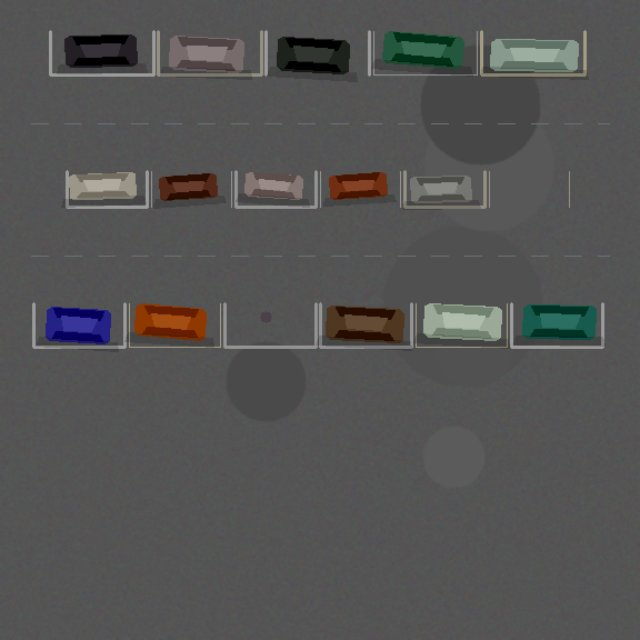space-empty: (224, 303, 316, 347), (489, 171, 569, 207)
space-occupied: (373, 31, 477, 74), (50, 31, 153, 74), (158, 31, 261, 74), (266, 31, 369, 74), (481, 31, 584, 74), (33, 303, 124, 347), (129, 303, 220, 347), (320, 303, 411, 347), (416, 303, 507, 347), (511, 303, 602, 347), (67, 171, 147, 207), (151, 171, 231, 207), (236, 171, 316, 207), (320, 171, 400, 207), (404, 171, 484, 207)
